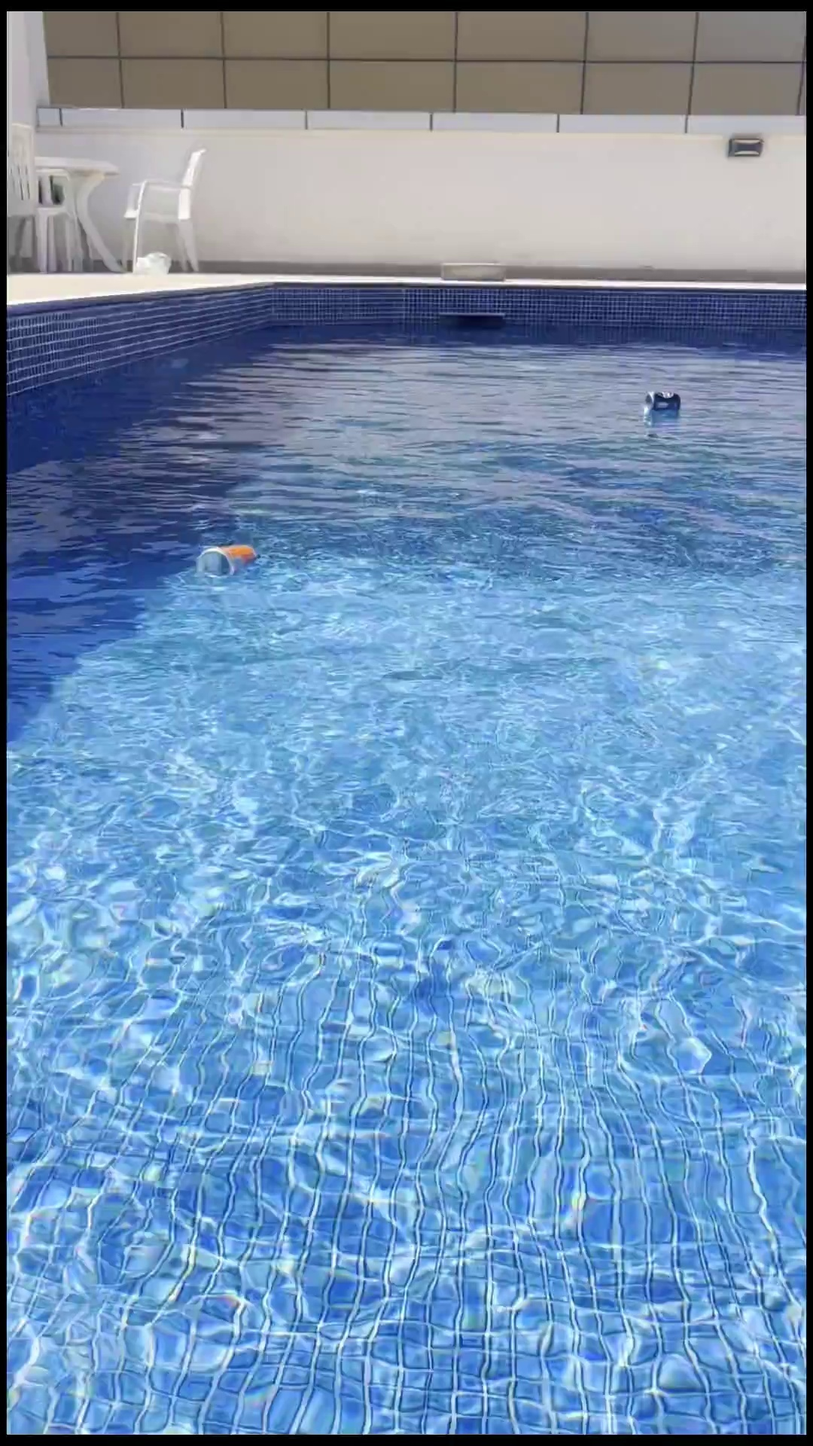debris: (190, 526, 259, 594), (639, 377, 681, 434)
